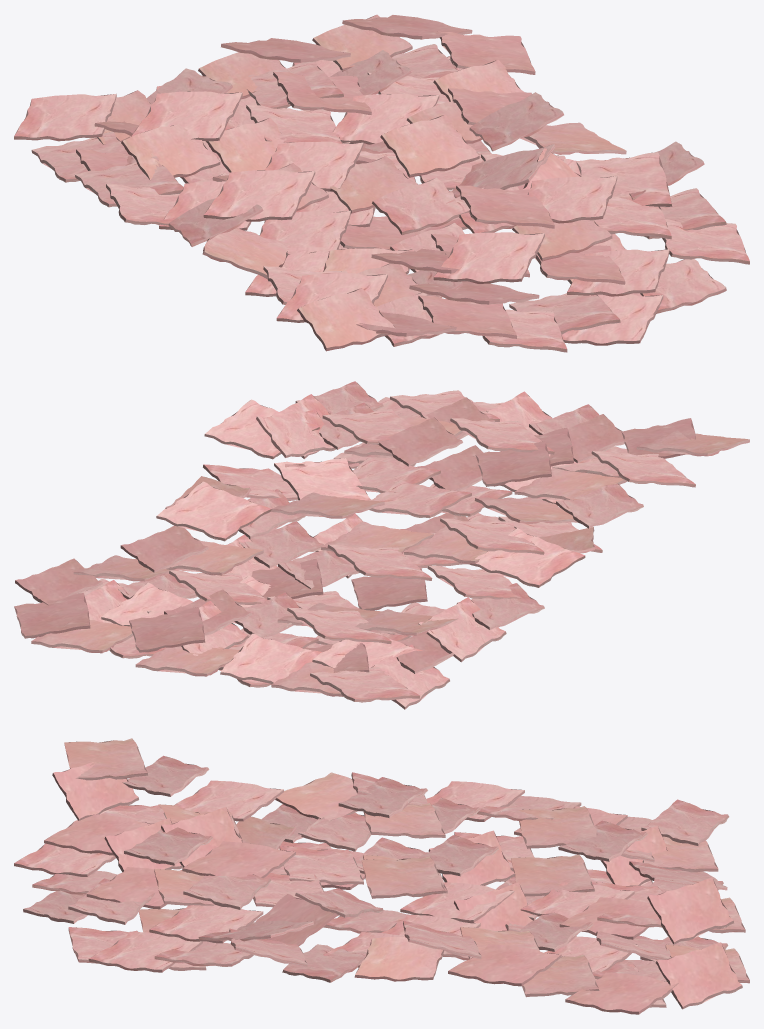
Rendered from ham_hoopje.glb.
The picture shows the model from 3 angles, top to bottom: view 1: azimuth 30°, elevation 25°; view 2: azimuth 150°, elevation 25°; view 3: azimuth 270°, elevation 25°; orthographic projection. The views are drawn at different scales.
Visible parts, largest first — view 1: Cube.150, Cube.089, Cube.081, Cube.117, Cube.122, Cube.145, Cube.114, Cube.100, Cube.135, Cube.157, Cube.067, Cube.086 (+58 smaller); view 2: Cube.093, Cube.104, Cube.126, Cube.078, Cube.101, Cube.121, Cube.066, Cube.137, Cube.132, Cube.100, Cube.117, Cube.157 (+64 smaller); view 3: Cube.121, Cube.066, Cube.138, Cube.083, Cube.070, Cube.081, Cube.092, Cube.145, Cube.127, Cube.151, Cube.159, Cube.139 (+64 smaller).
Boxes of the visible parts, x1,y1,x2,y2 form: Cube.150: (433,232,544,283); Cube.089: (203,170,315,221); Cube.081: (380,114,479,177); Cube.117: (14,93,116,141); Cube.122: (131,91,242,141); Cube.145: (297,288,395,351); Cube.114: (121,123,220,180); Cube.100: (372,177,469,235); Cube.135: (527,176,617,223); Cube.157: (576,152,672,206); Cube.067: (333,94,439,144); Cube.086: (264,141,363,191); Cube.093: (156,481,271,541); Cube.104: (470,528,585,587); Cube.126: (220,633,321,688); Cube.078: (274,458,370,500); Cube.101: (418,597,506,662); Cube.121: (129,607,205,652); Cube.066: (14,593,90,638); Cube.137: (204,399,319,459); Cube.132: (475,441,551,486); Cube.100: (369,480,471,518); Cube.117: (310,667,419,702); Cube.157: (256,410,336,457); Cube.121: (647,877,733,944); Cube.066: (656,942,742,1009); Cube.138: (354,937,444,981); Cube.083: (448,944,561,986); Cube.070: (565,972,678,1014); Cube.081: (361,856,445,898); Cube.092: (182,841,295,878); Cube.145: (64,738,147,780); Cube.127: (511,854,594,896); Cube.151: (52,762,138,820); Cube.159: (88,931,202,972); Cube.139: (149,903,263,943).
Bounding box in the file's own units: 1.02 × 0.1707 × 1.41.
Materials: 9 (9 with a texture image).
